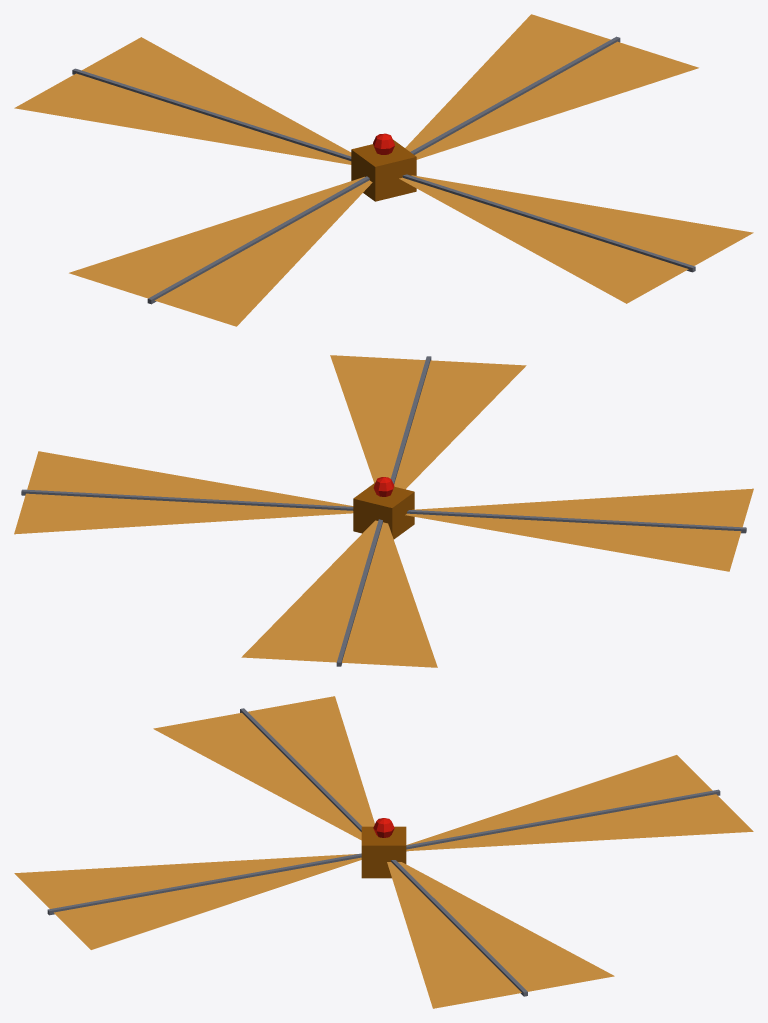
The model's file is solar_sail.glb.
3 views of the same model, one above another, from view 1: azimuth 30°, elevation 25°; view 2: azimuth 150°, elevation 25°; view 3: azimuth 270°, elevation 25° (orthographic). The views are drawn at different scales.
Parts seen in each view (by area): view 1: solar_sail; view 2: solar_sail; view 3: solar_sail.
Boxes of the visible parts, x1,y1,x2,y2 form: solar_sail: (14,14,753,326); solar_sail: (14,355,753,667); solar_sail: (14,696,753,1008).
Bounding box in the file's own units: 1.98 × 0.1494 × 1.98.
